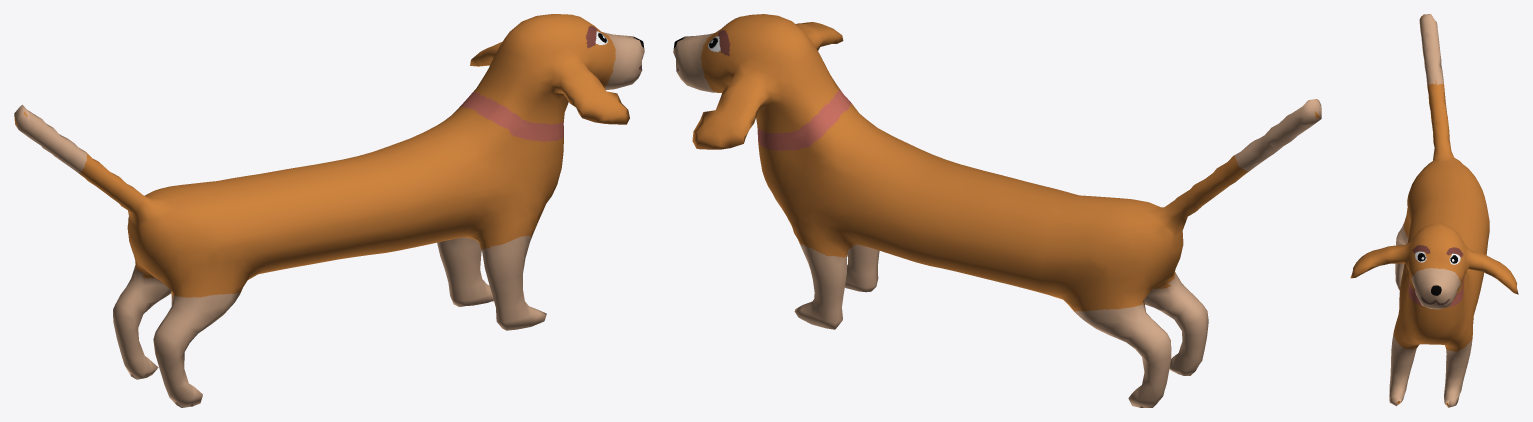
Rendered from dog_aug_3.obj.
The picture shows the model from 3 angles, left to right: view 1: azimuth 30°, elevation 25°; view 2: azimuth 150°, elevation 25°; view 3: azimuth 270°, elevation 25°; orthographic projection. The views are drawn at different scales.
Size of the model in its own units: 103 by 50.6 by 34.02.
Materials: 1 (1 with a texture image).
